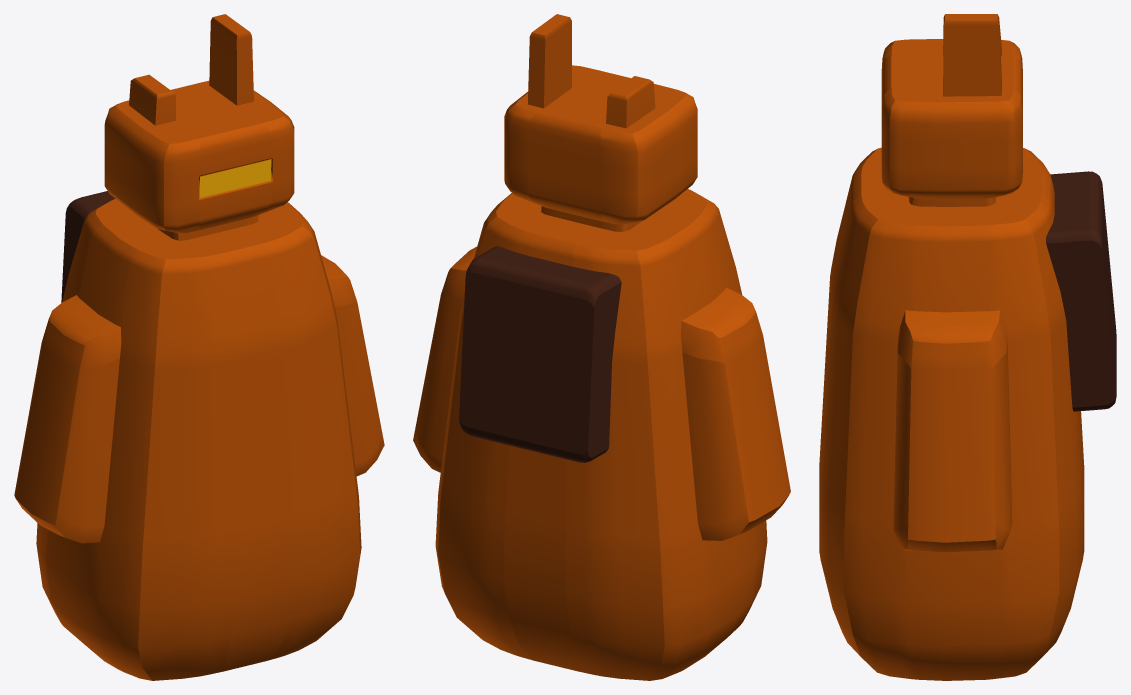
File: evilBroskiEdit02.fbx
The picture shows the model from 3 angles, left to right: view 1: azimuth 30°, elevation 25°; view 2: azimuth 150°, elevation 25°; view 3: azimuth 270°, elevation 25°; orthographic projection. The views are drawn at different scales.
Visible parts, largest first — view 1: evilBroski, pCube2, pCube1; view 2: evilBroski, pCube2; view 3: evilBroski, pCube2.
Part boxes in pixels (x1,y1,x2,y2): evilBroski: [14, 14, 384, 680]; pCube2: [61, 191, 115, 302]; pCube1: [200, 159, 270, 197]; evilBroski: [413, 14, 790, 680]; pCube2: [459, 246, 621, 462]; evilBroski: [819, 14, 1084, 680]; pCube2: [1046, 171, 1116, 411].
Bounding box in the file's own units: 42.1 × 69.94 × 29.74.
